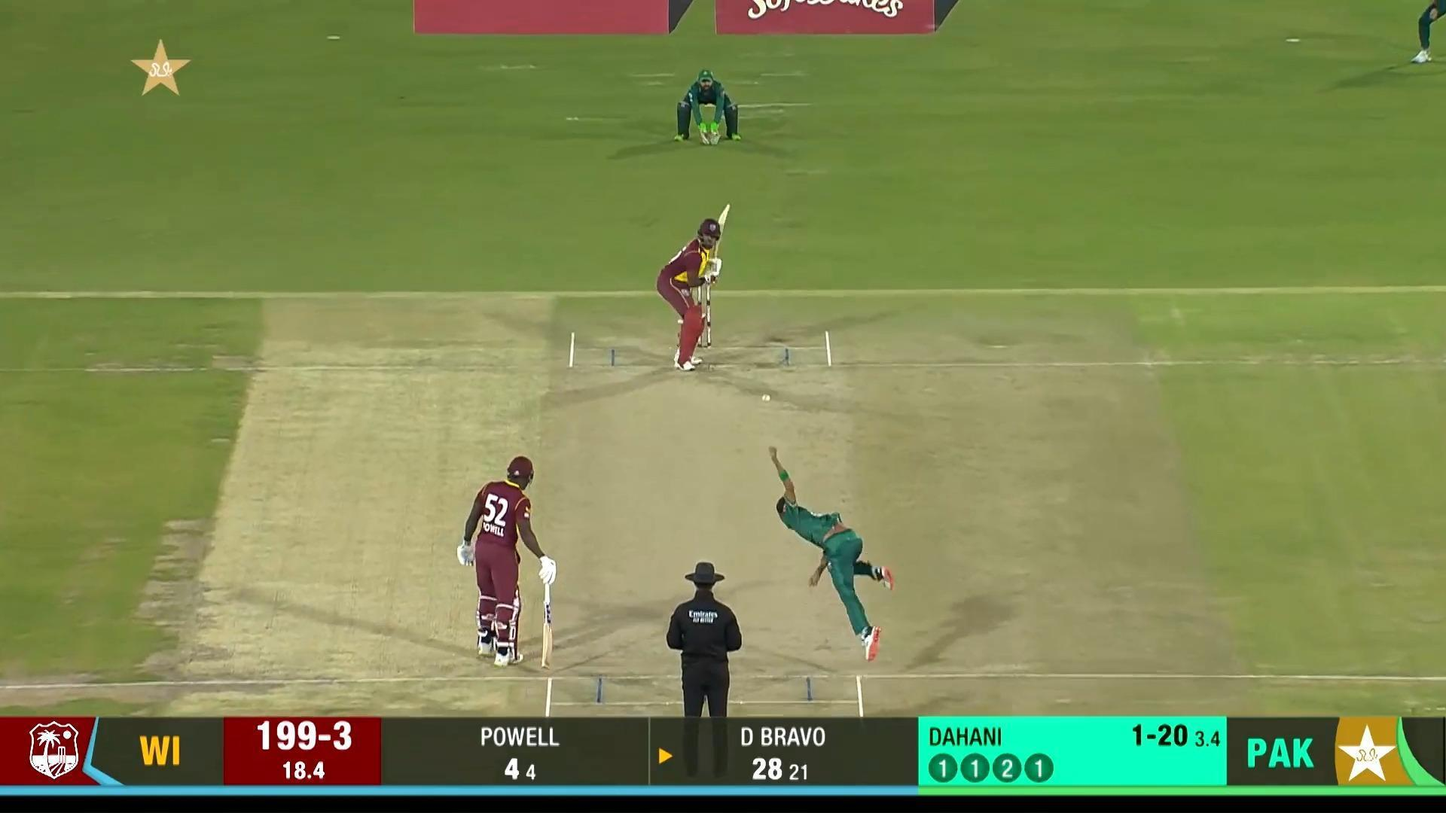BM 1: (657, 204, 731, 371)
BO: (766, 444, 896, 662)
